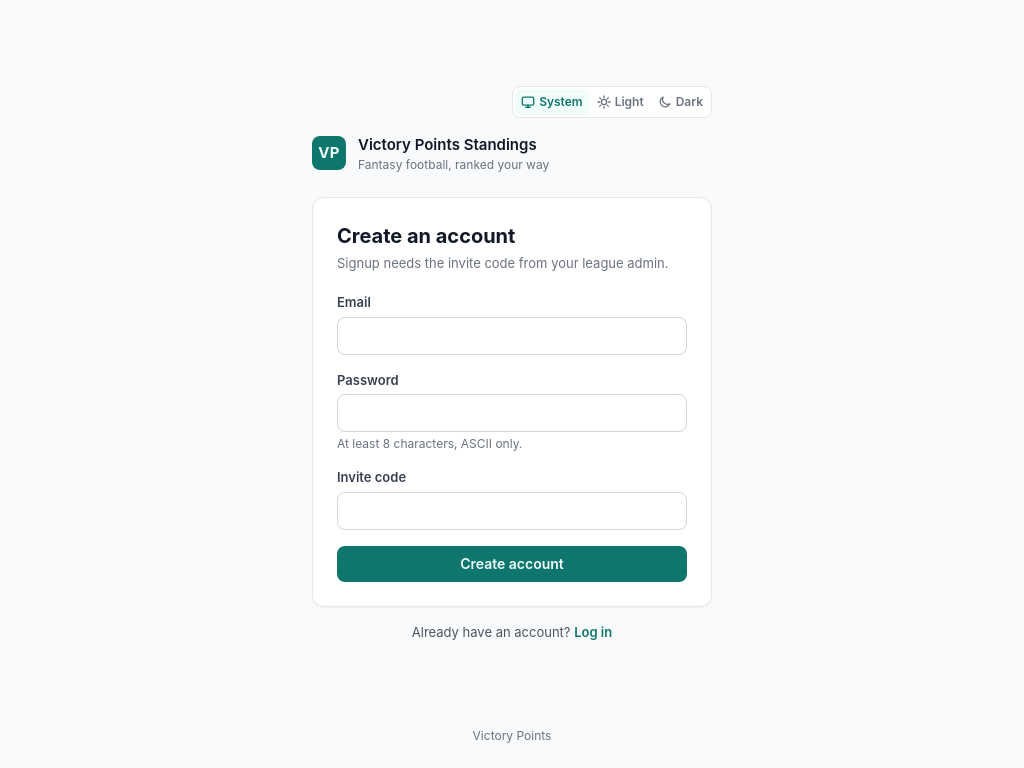
it: App routing › signs up with a member invite and lands on the league standings without onboarding
Check: the heading "Create an account" is shown, box x1=337 y1=224 x2=515 y2=248
Type "new@example.com" into the field labelled "Email" at (512, 336), box x1=337 y1=316 x2=687 y2=354
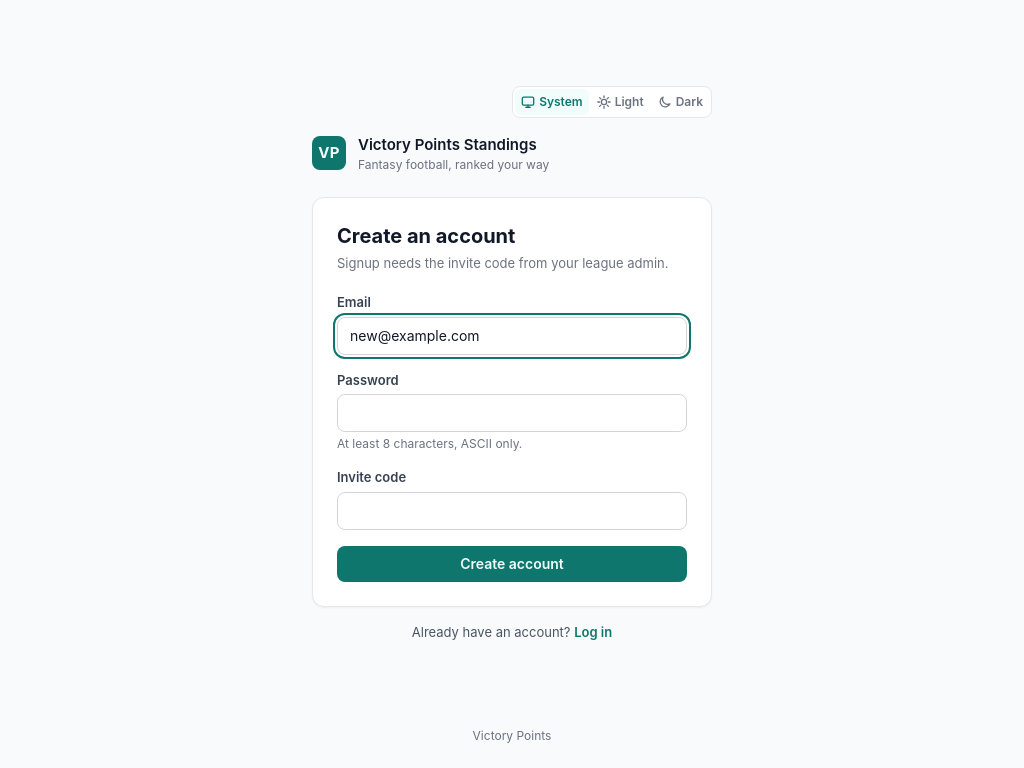
Type "password" into the password field labelled "Password" at (512, 413), box x1=337 y1=394 x2=687 y2=432
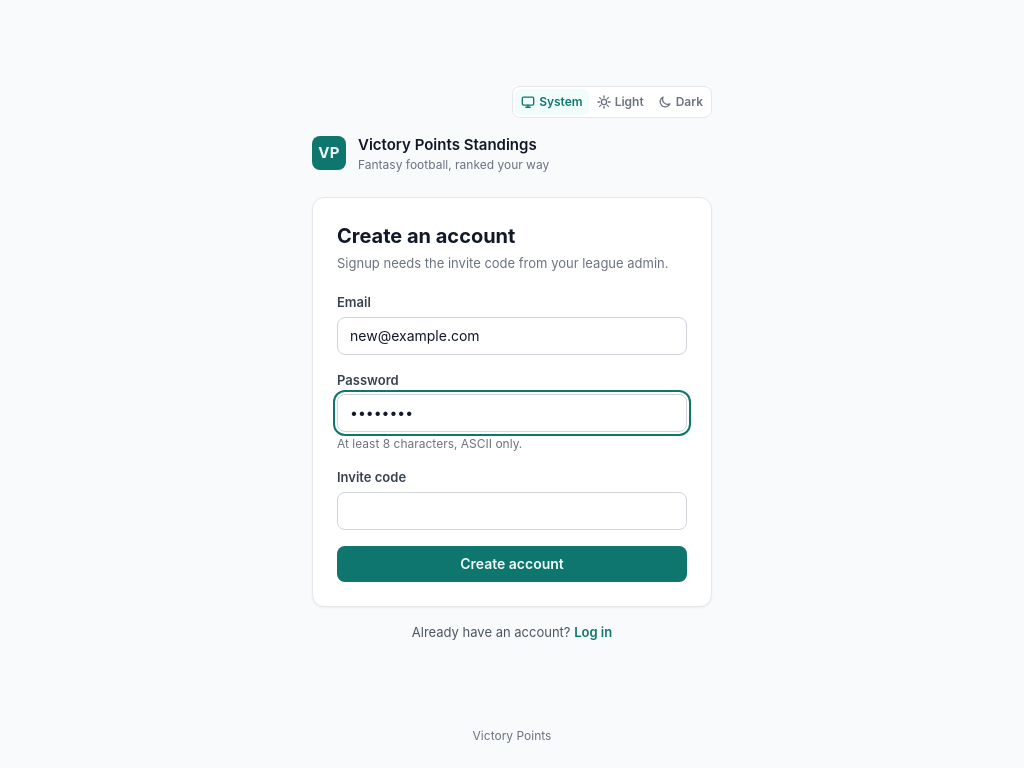
Type "invite-code" into the password field labelled "Invite code" at (512, 510), box x1=337 y1=492 x2=687 y2=530
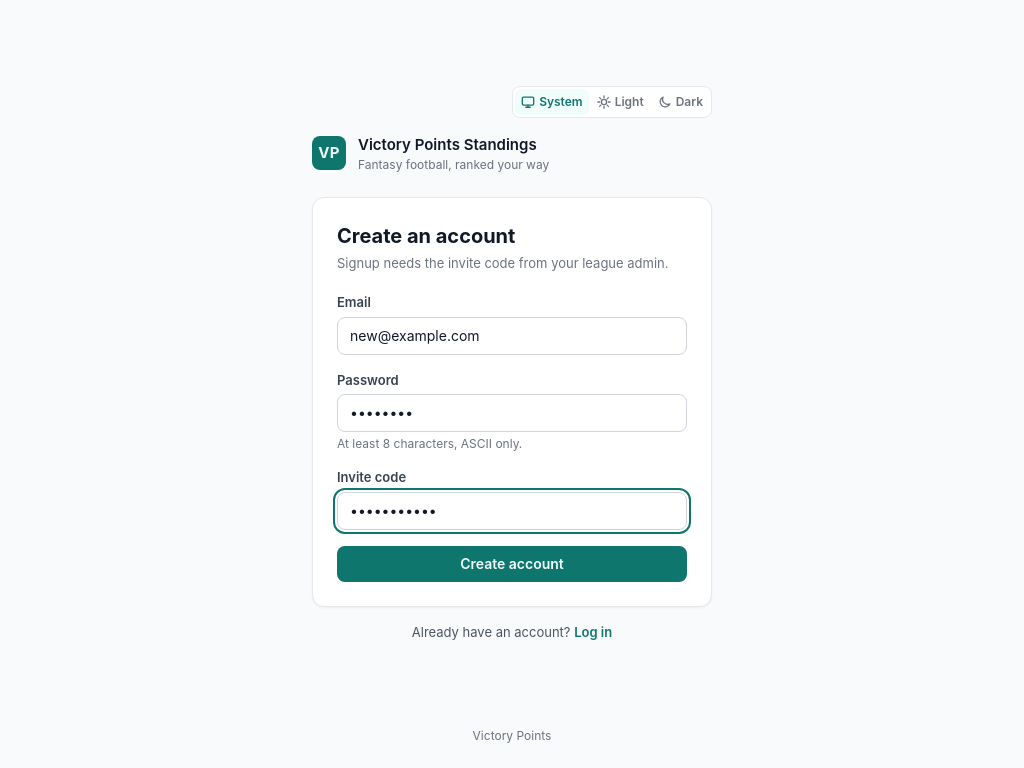
Click the button "Create account" at (512, 564), box x1=337 y1=546 x2=687 y2=582
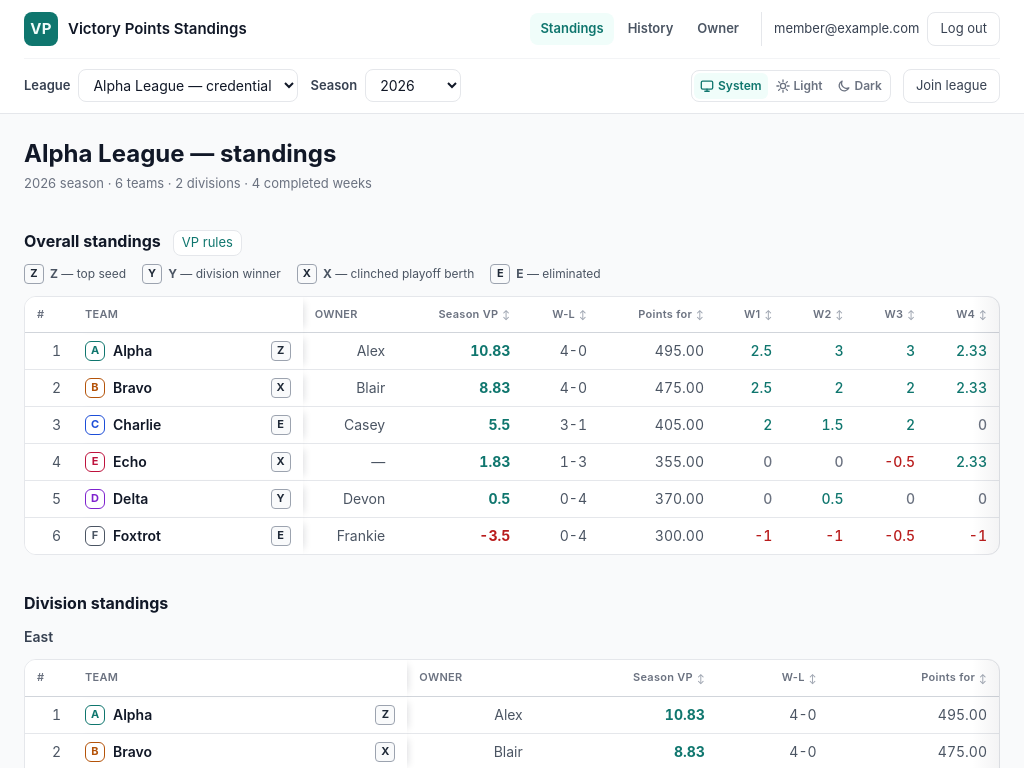
Check: the heading "Alpha League — standings" is shown, box x1=24 y1=138 x2=336 y2=168
